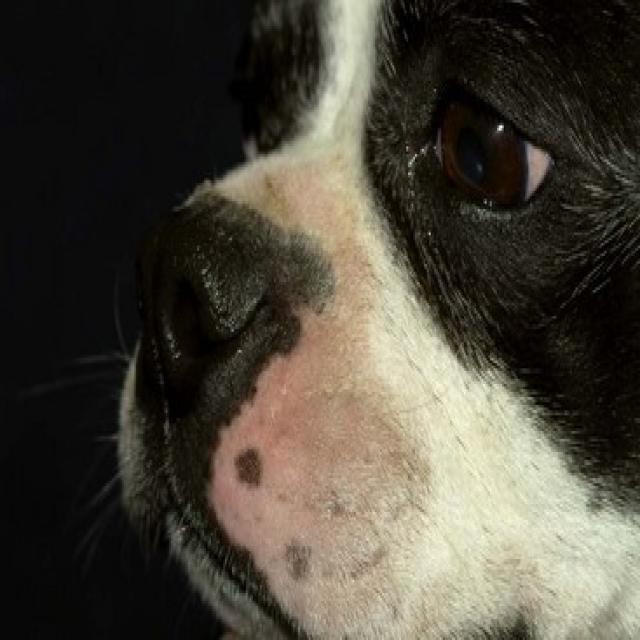qua man cho: (136, 154, 519, 640)
